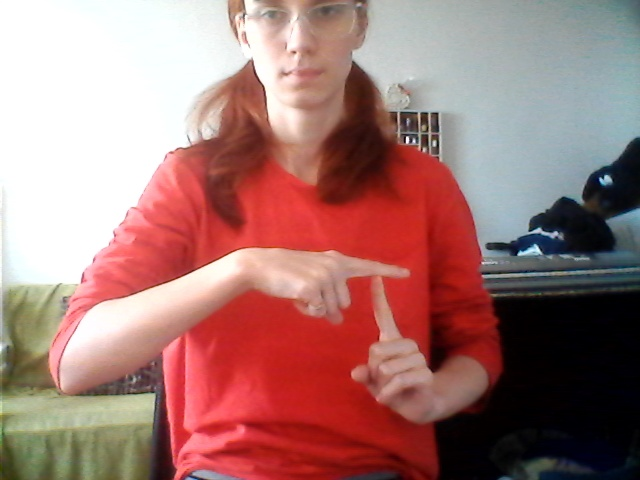t: (274, 245, 426, 429)
